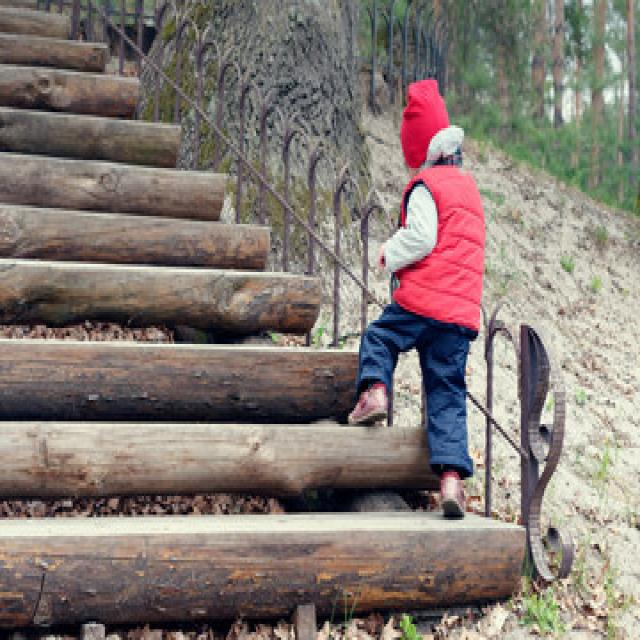stair: (0, 8, 319, 338)
